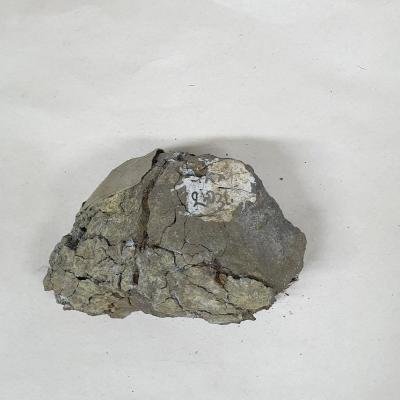mineralogy: (43, 150, 307, 326)
